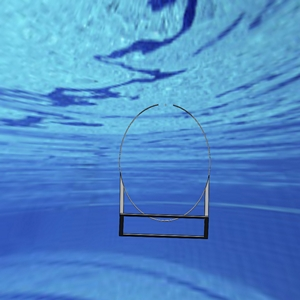circle: (117, 101, 213, 240)
